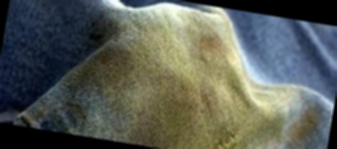earth: (96, 7, 283, 149)
